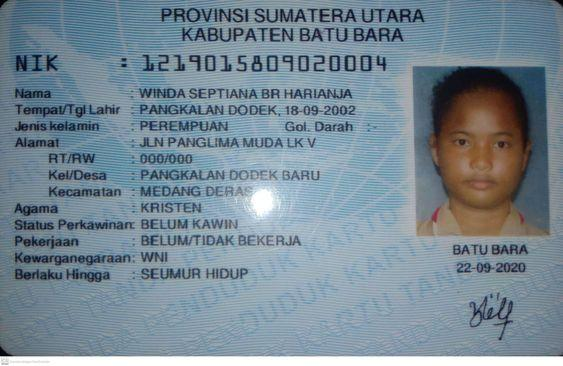ID-card: (1, 1, 561, 353)
